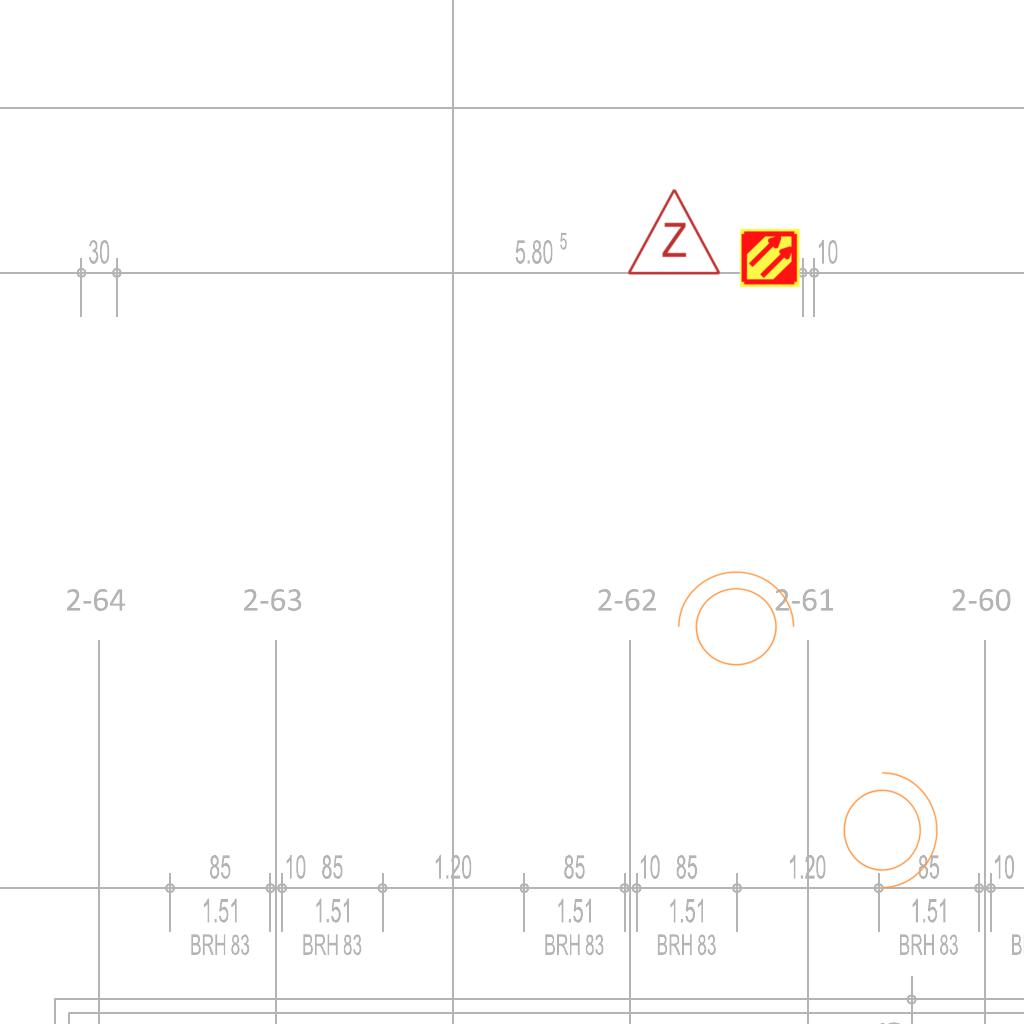ASR_Ansaugrauchmelder: (739, 227, 801, 289)
Scheinwerfer_fuer_Alarmbeleuchtung: (667, 566, 799, 678), (831, 761, 943, 893)
Zimmersignalleuchte: (624, 182, 722, 282)
